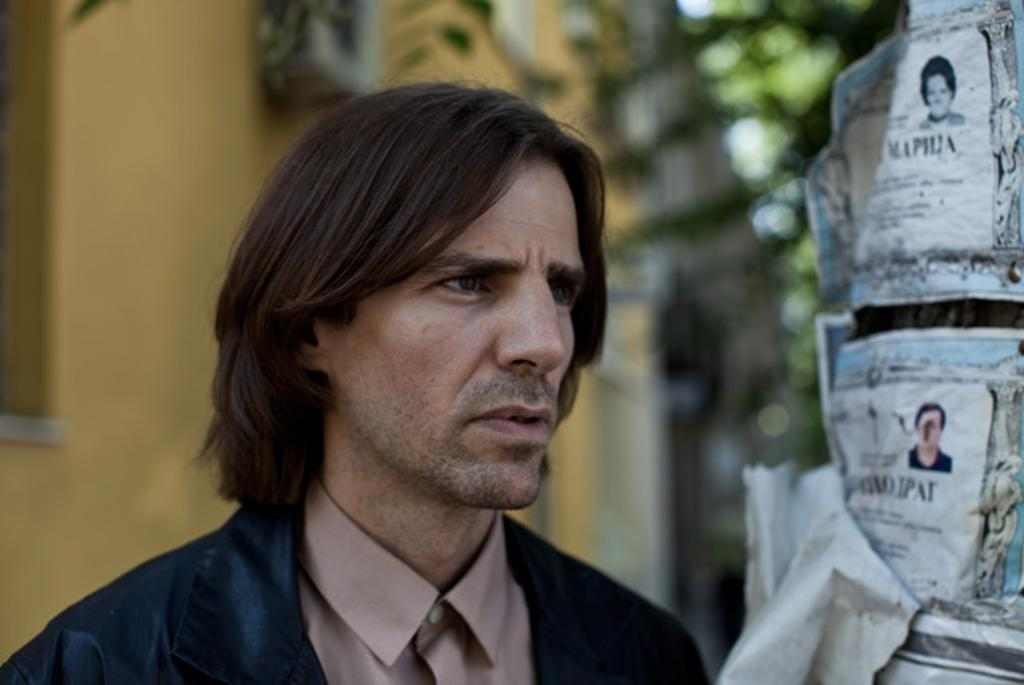face: (343, 157, 585, 510), (926, 76, 950, 118), (917, 412, 939, 447)
